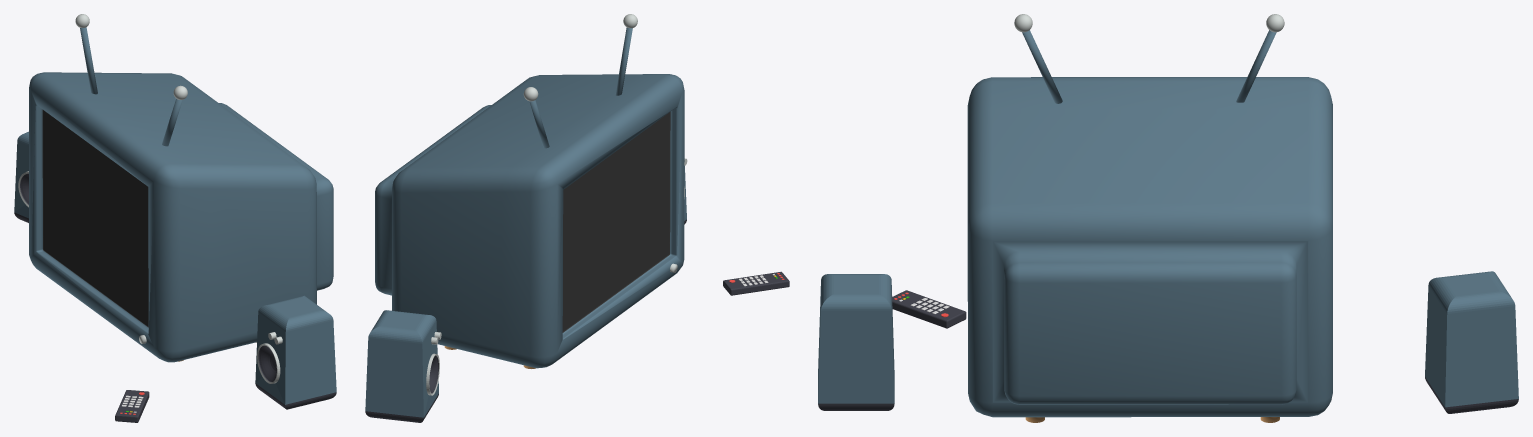
Rendered from cartoon tv model.fbx.
3 views of the same model, side by side, from view 1: azimuth 30°, elevation 25°; view 2: azimuth 150°, elevation 25°; view 3: azimuth 270°, elevation 25° (orthographic). The views are drawn at different scales.
Visible parts, largest first — view 1: TV, Audio.R, Audio.L, remote control; view 2: TV, Audio.L, remote control; view 3: TV, Audio.L, Audio.R, remote control.
Boxes of the visible parts, x1,y1,x2,y2 form: TV: (29, 14, 333, 362); Audio.R: (255, 295, 336, 409); Audio.L: (14, 131, 28, 222); remote control: (115, 390, 149, 422); TV: (375, 14, 684, 368); Audio.L: (365, 310, 441, 422); remote control: (723, 271, 789, 295); TV: (967, 14, 1332, 422); Audio.L: (1425, 271, 1518, 413); Audio.R: (818, 274, 894, 410); remote control: (892, 290, 966, 328).
Bounding box in the file's own units: 166 × 168 × 301.
